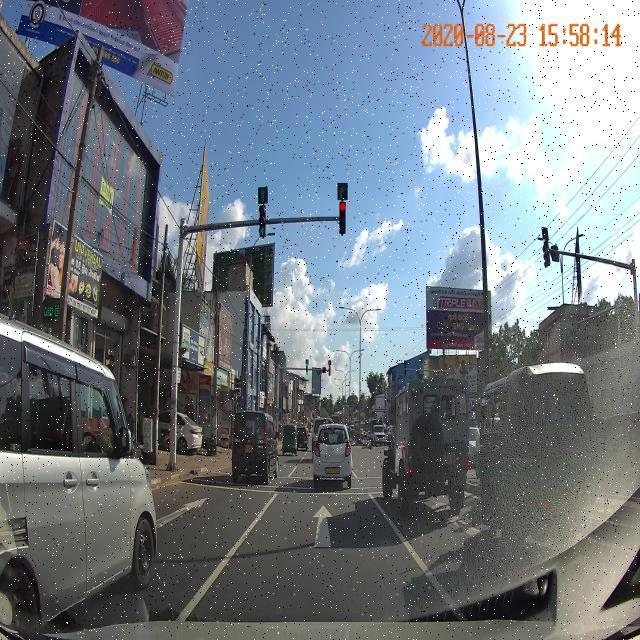forward: (227, 489, 419, 553)
